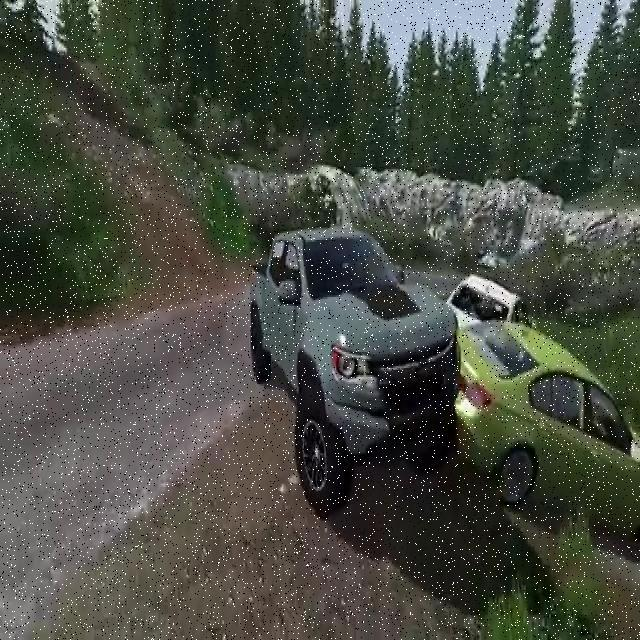high-cars-accident: (214, 216, 640, 538)
